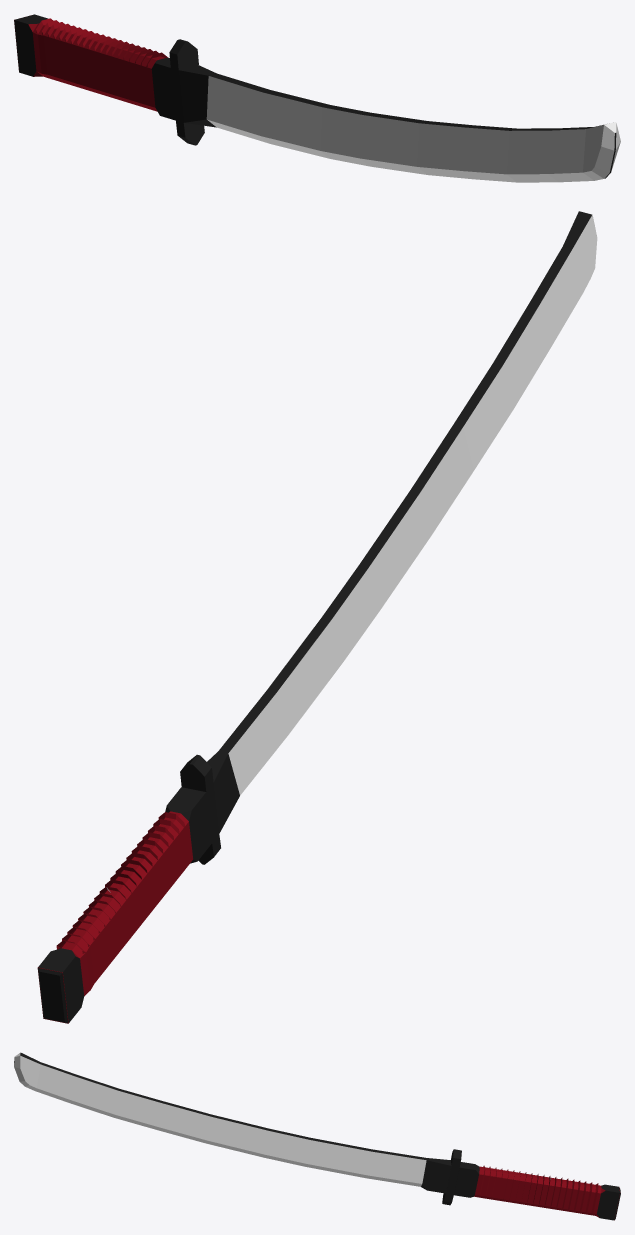
The model's file is katana_budoucnost.fbx.
The picture shows the model from 3 angles, top to bottom: view 1: azimuth 30°, elevation 25°; view 2: azimuth 150°, elevation 25°; view 3: azimuth 270°, elevation 25°; orthographic projection. The views are drawn at different scales.
Visible parts, largest first — view 1: Katana; view 2: Katana; view 3: Katana.
Part boxes in pixels (box(x1,y1,x2,y2)): Katana: box(14, 14, 620, 182); Katana: box(37, 211, 597, 1023); Katana: box(14, 1052, 620, 1220).
Bounding box in the file's own units: 18.06 × 70.08 × 215.
